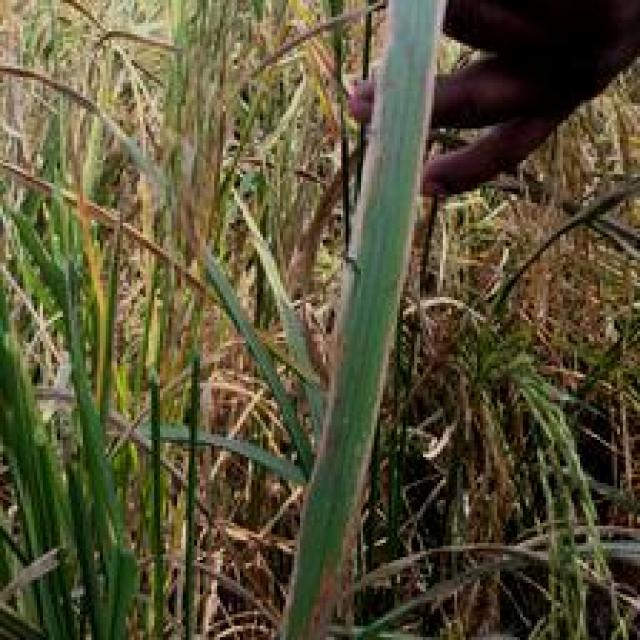Bacterial_Leaf_Blight: (289, 11, 400, 600)
